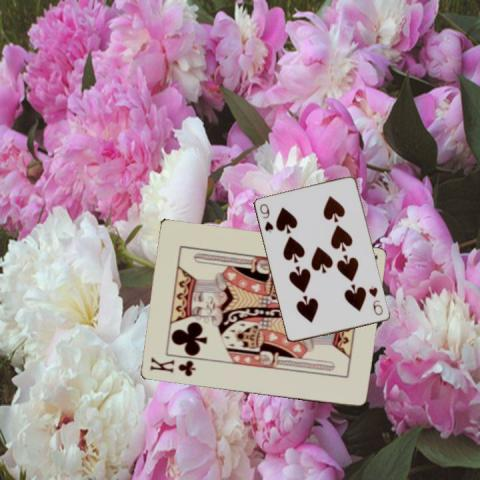9s: (366, 282, 385, 316), (256, 200, 274, 234)
Kc: (146, 355, 196, 378)
